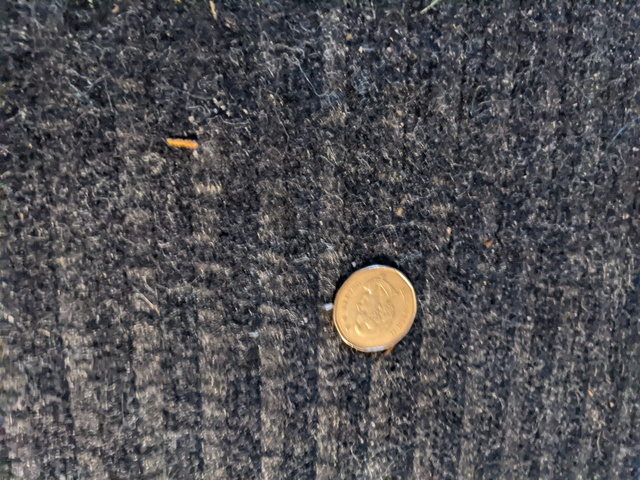loonie: (324, 254, 429, 354)
